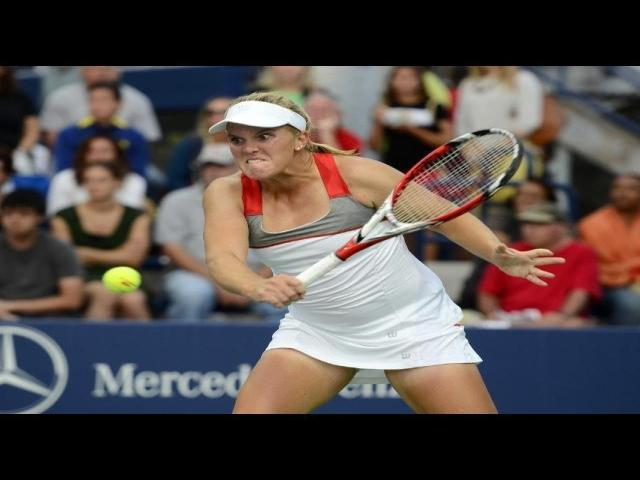tennis-ball: (101, 266, 142, 294)
